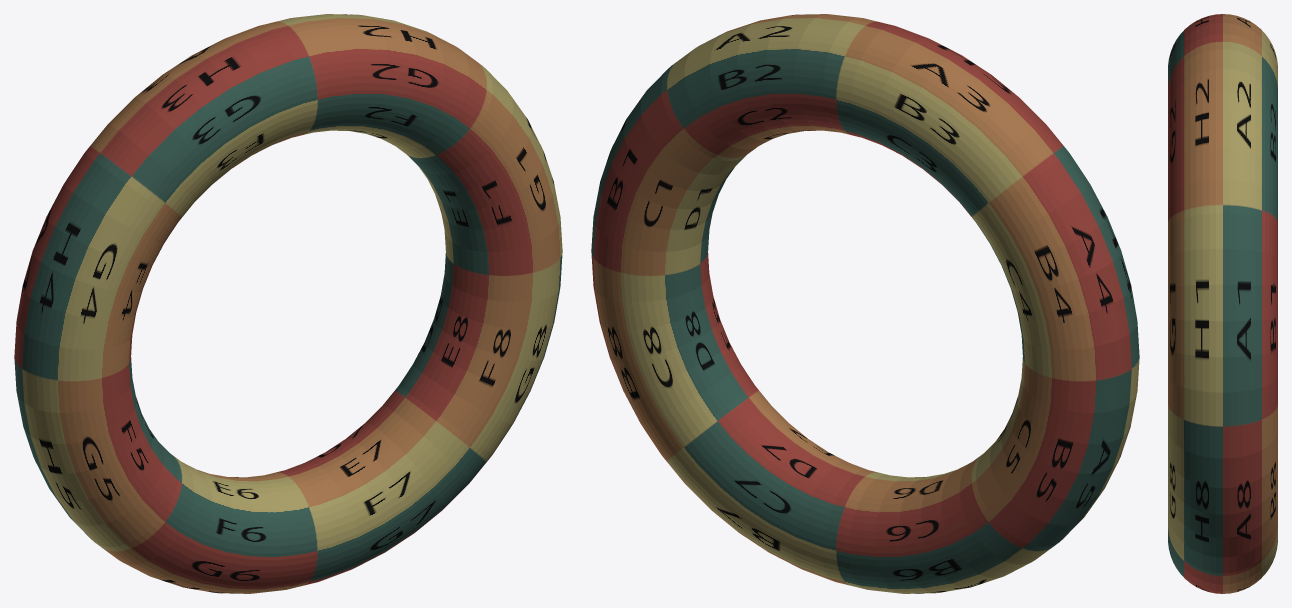
The model's file is texture_torus_R20_r13.glb.
3 renders of one model, left to right at view 1: azimuth 30°, elevation 25°; view 2: azimuth 150°, elevation 25°; view 3: azimuth 270°, elevation 25°, orthographic. The views are drawn at different scales.
Visible parts, largest first — view 1: world; view 2: world; view 3: world.
Part boxes in pixels (bbox=[...]): world: bbox=[14, 14, 562, 593]; world: bbox=[591, 14, 1139, 593]; world: bbox=[1168, 14, 1277, 593].
Bounding box in the file's own units: 28.8 × 28.74 × 5.46.
1 material, 1 textured.
